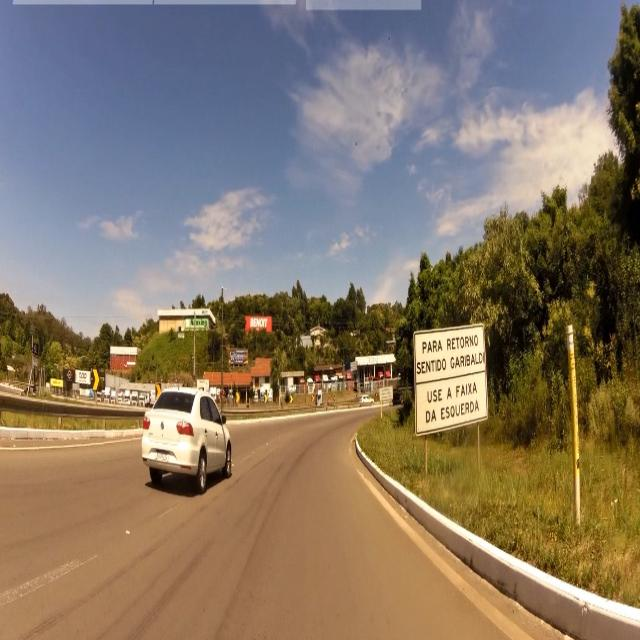E-5: (414, 329, 487, 424)
